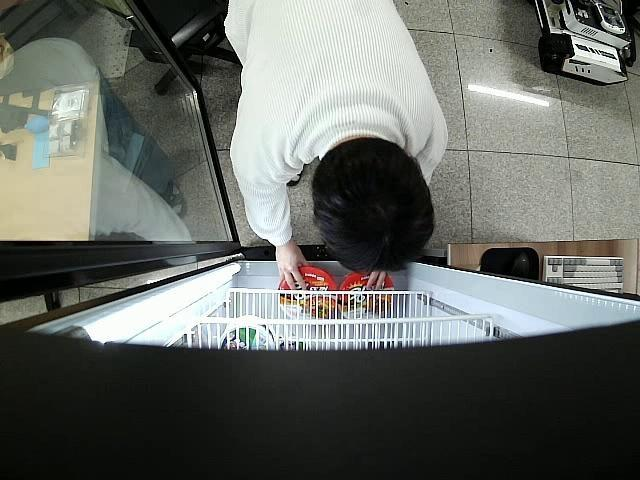10_wangTtukkeong: (279, 268, 338, 322), (340, 274, 392, 317)
